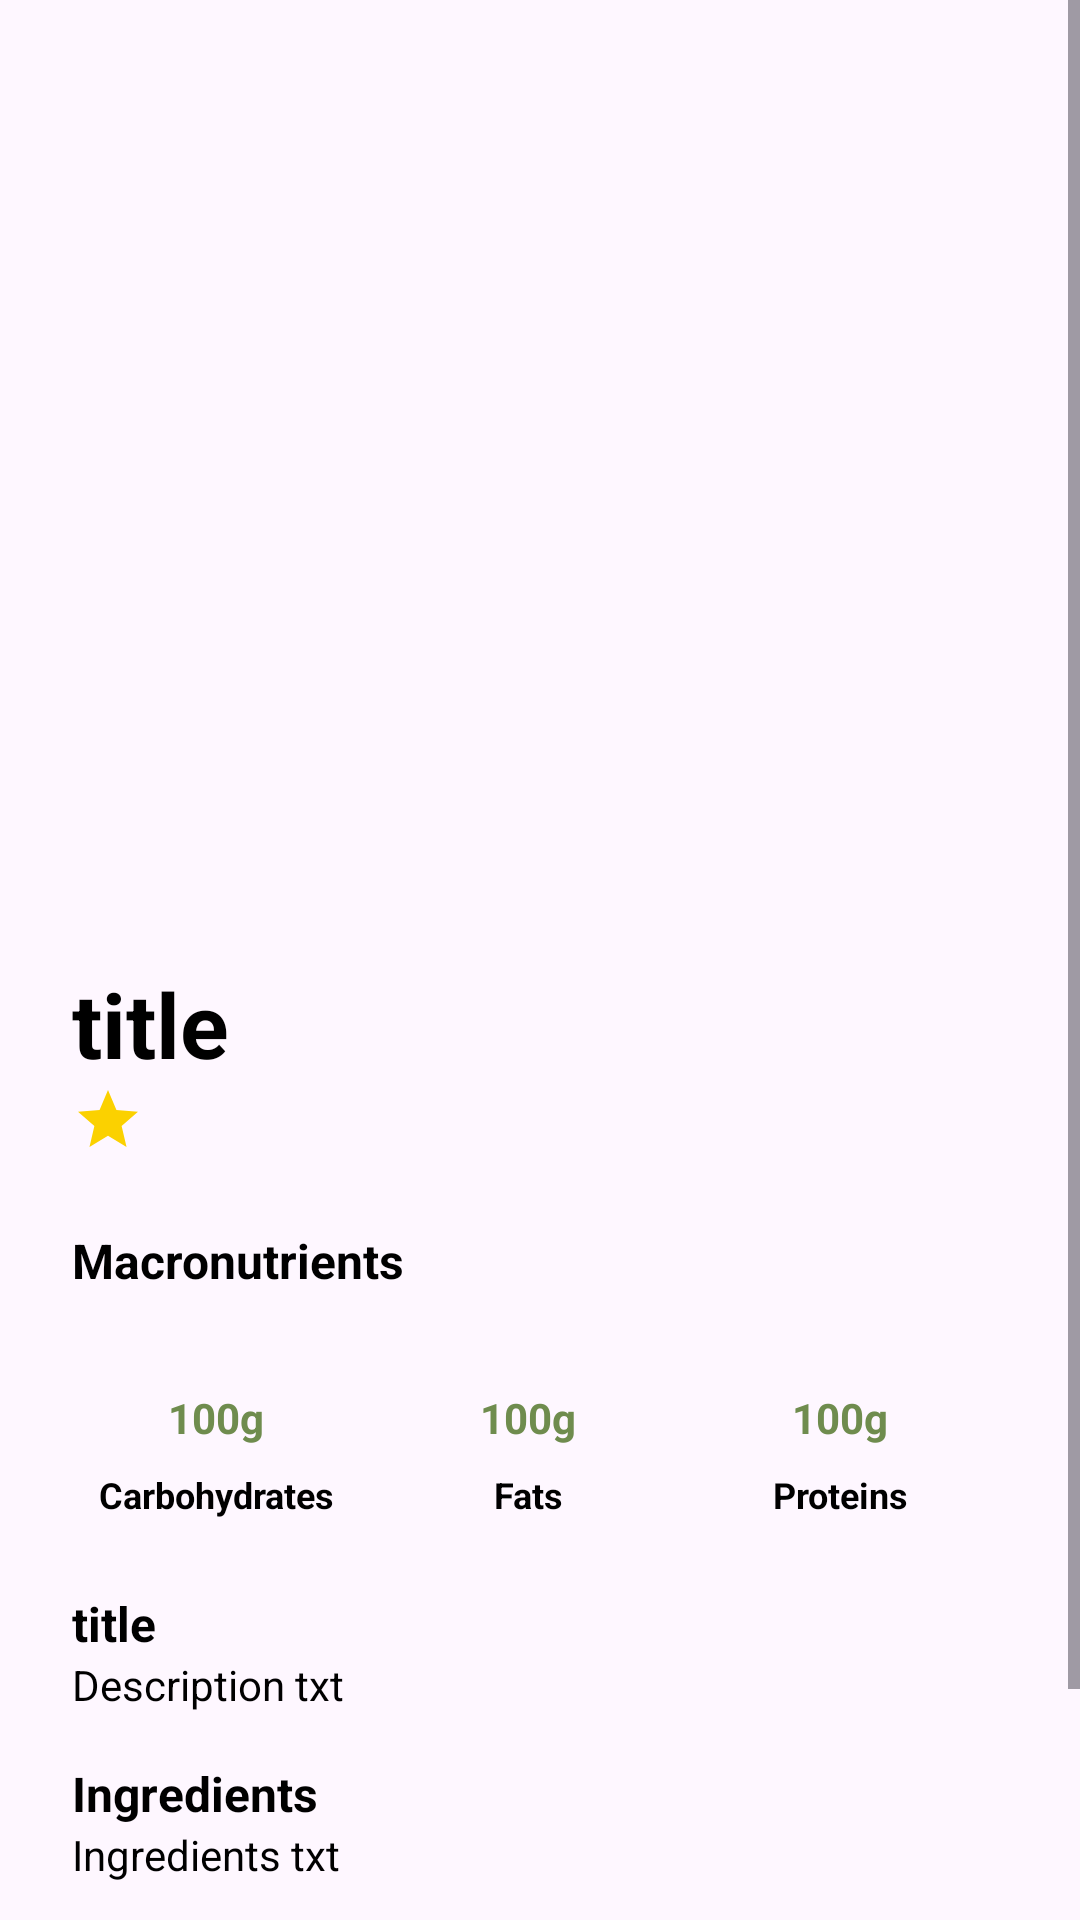

Icons on this 1080px×1920px Android screen, each with its box as (x1, y1, x2, y2):
star: (78, 1090, 138, 1147)
